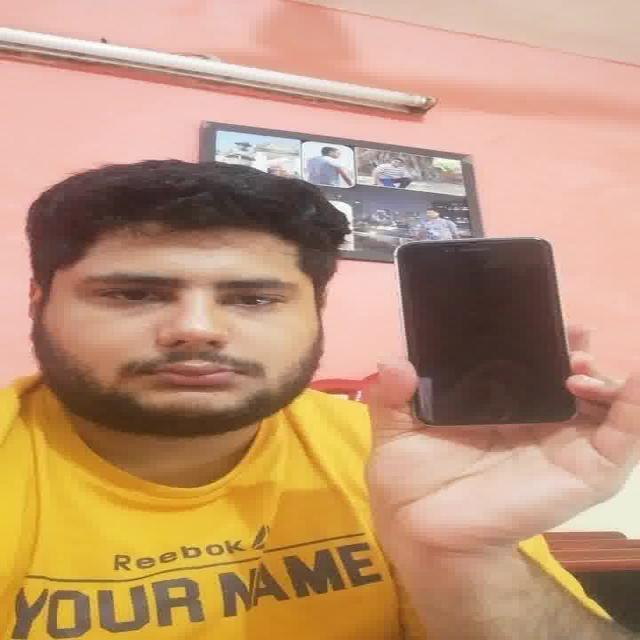Phone: (393, 234, 578, 422)
